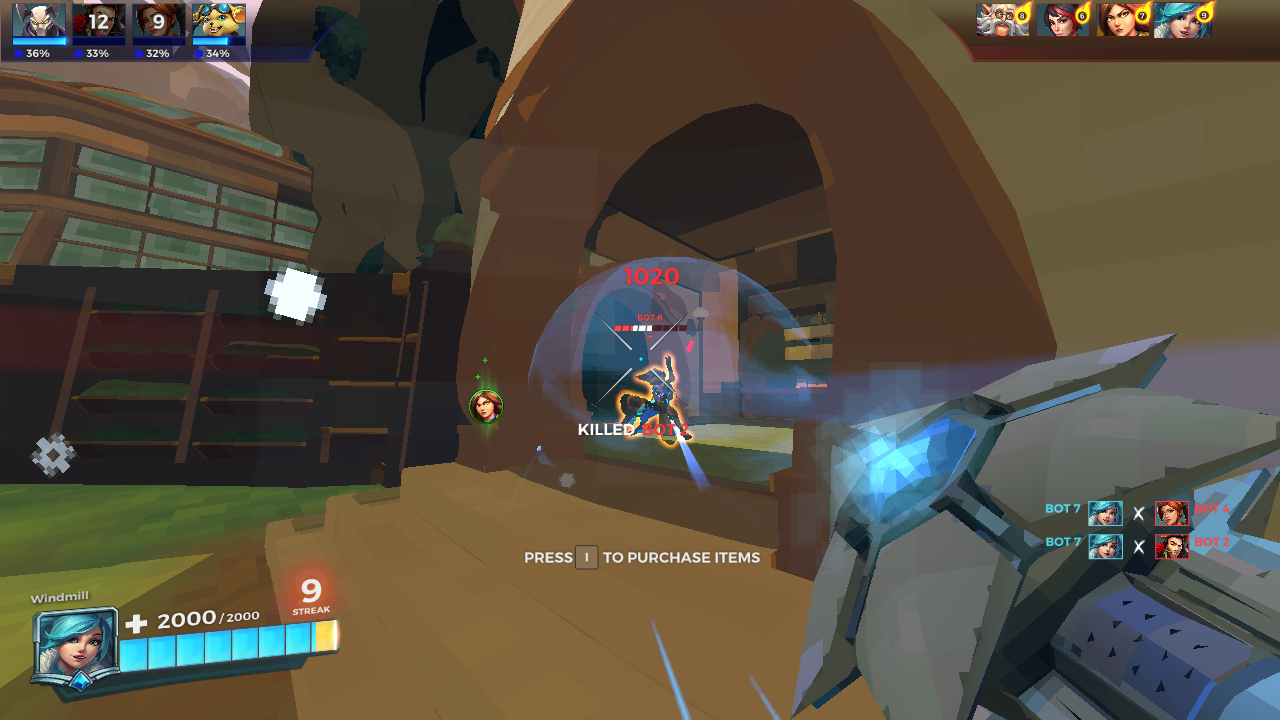model: (606, 354, 693, 449)
